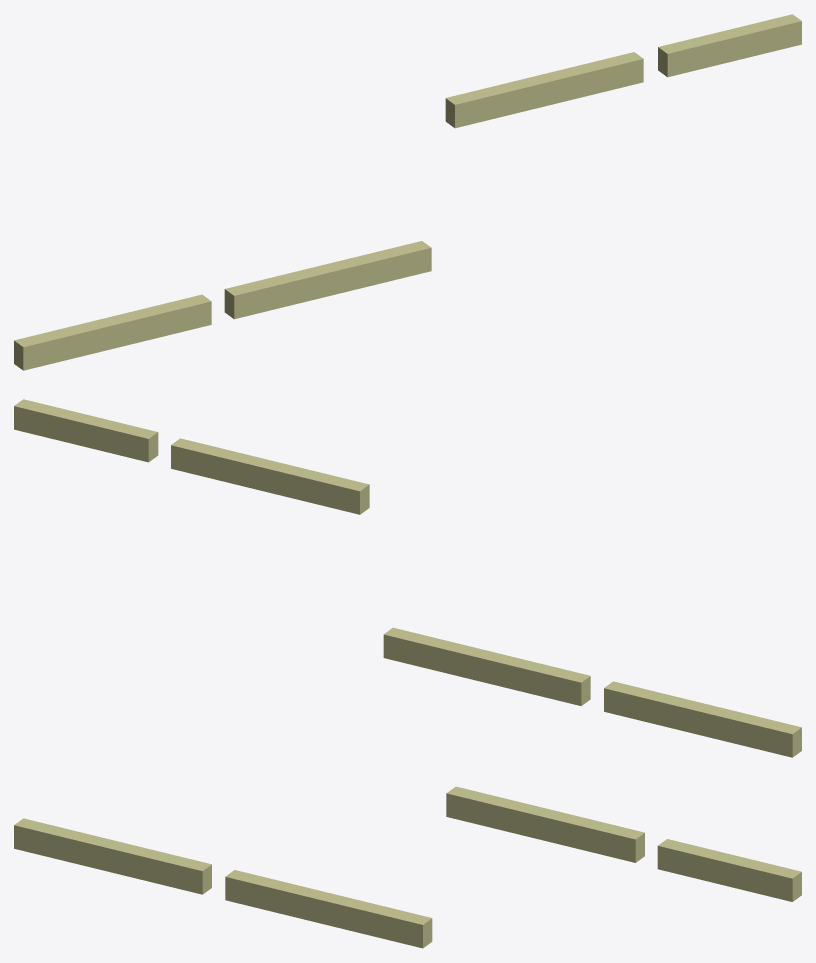
Rendered from Wood_CrossPiller_001.fbx.
3 views of the same model, one above another, from view 1: azimuth 30°, elevation 25°; view 2: azimuth 150°, elevation 25°; view 3: azimuth 330°, elevation 25° (orthographic).
Parts seen in each view (by area): view 1: PillerWood002, PillerWood003, PillerWood001, PillerWood004; view 2: PillerWood002, PillerWood003, PillerWood001, PillerWood004; view 3: PillerWood002, PillerWood003, PillerWood001, PillerWood004.
Part boxes in pixels (<box>): PillerWood002: <box>224,241,431,319</box>; PillerWood003: <box>445,52,643,128</box>; PillerWood001: <box>14,294,211,370</box>; PillerWood004: <box>658,14,801,77</box>; PillerWood002: <box>383,627,590,705</box>; PillerWood003: <box>171,438,369,514</box>; PillerWood001: <box>604,681,801,757</box>; PillerWood004: <box>14,399,158,462</box>; PillerWood002: <box>225,870,432,948</box>; PillerWood003: <box>446,786,644,862</box>; PillerWood001: <box>14,818,211,894</box>; PillerWood004: <box>657,839,801,901</box>.
Bounding box in the file's own units: 28.83 × 5.69 × 0.6597.
